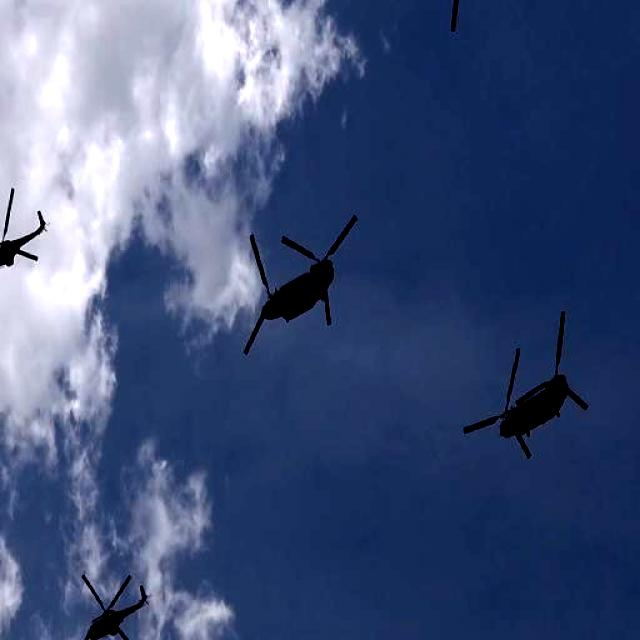drone: (461, 308, 594, 465), (242, 211, 359, 361), (76, 562, 155, 640), (0, 184, 51, 300), (418, 0, 565, 40)
